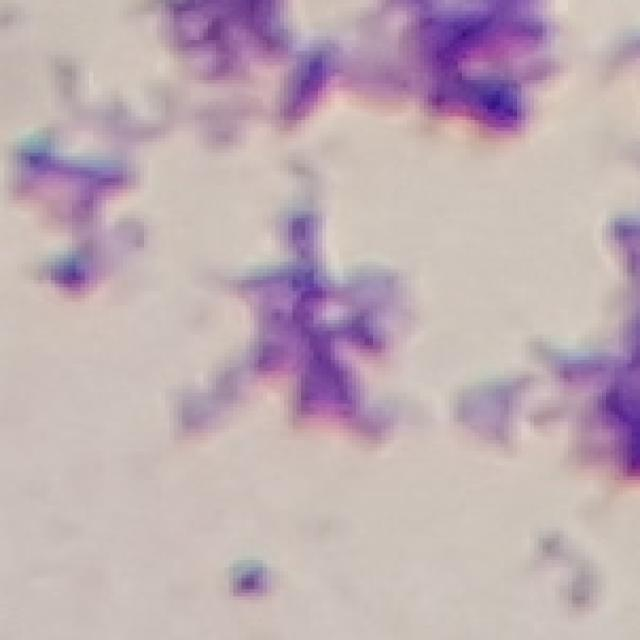non-sperm: (240, 217, 412, 440), (9, 113, 152, 302)
